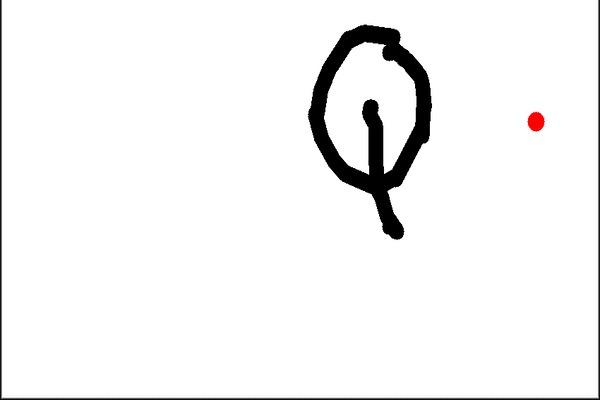Q: (295, 13, 460, 242)
